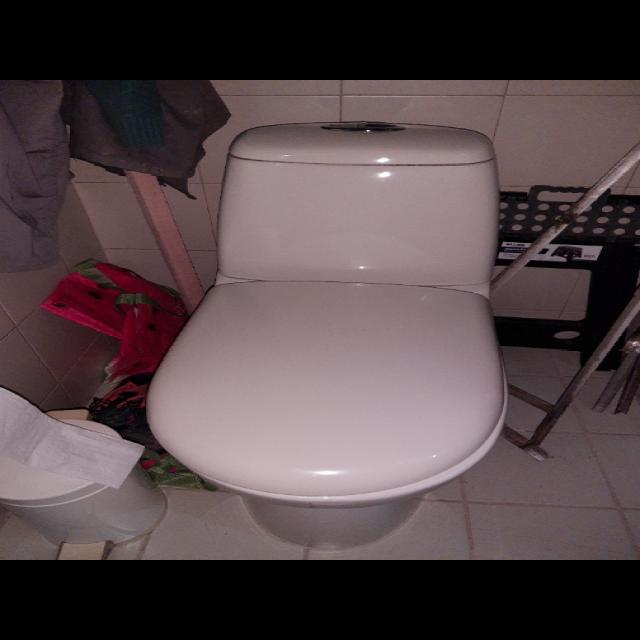toilet: (145, 119, 508, 550)
